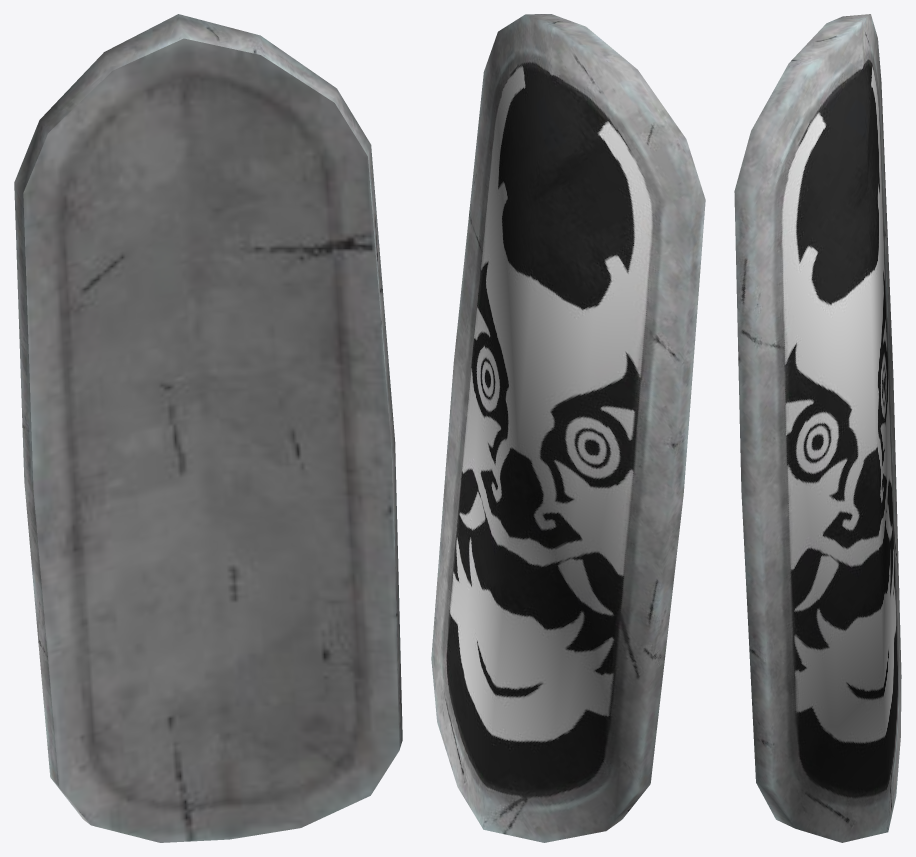
The model's file is shield-coppershields.glb.
3 renders of one model, left to right at view 1: azimuth 30°, elevation 25°; view 2: azimuth 150°, elevation 25°; view 3: azimuth 270°, elevation 25°, orthographic. The views are drawn at different scales.
Size of the model in its own units: 0.368 by 0.8867 by 0.1716.
Materials: 1 (1 with a texture image).
